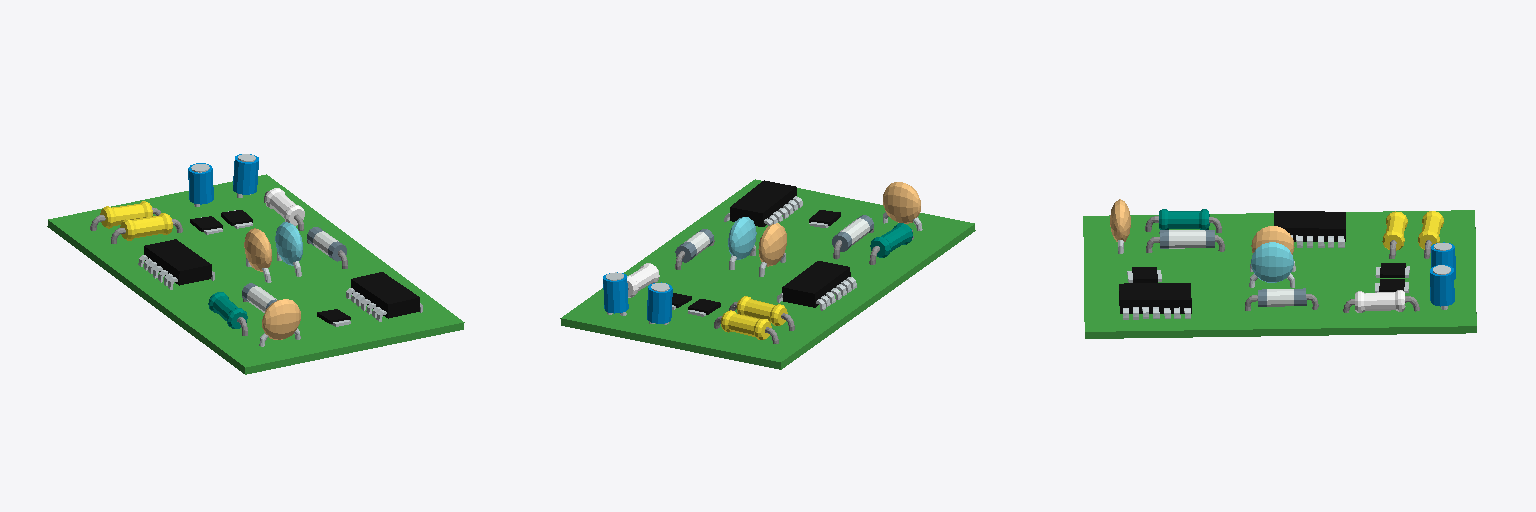
3 views of the same model, side by side, from view 1: azimuth 30°, elevation 25°; view 2: azimuth 150°, elevation 25°; view 3: azimuth 270°, elevation 25° (orthographic).
Parts seen in each view (by area): view 1: group[number redacted], group[number redacted], group[number redacted], group[number redacted], group[number redacted], group[number redacted], group[number redacted], group[number redacted], group[number redacted], group[number redacted], group[number redacted], group[number redacted] (+2 smaller); view 2: group[number redacted], group[number redacted], group[number redacted], group[number redacted], group[number redacted], group[number redacted], group[number redacted], group[number redacted], group[number redacted], group[number redacted], group[number redacted], group[number redacted] (+2 smaller); view 3: group[number redacted], group[number redacted], group[number redacted], group[number redacted], group[number redacted], group[number redacted], group[number redacted], group[number redacted], group[number redacted], group[number redacted], group[number redacted], group[number redacted] (+2 smaller).
Part boxes in pixels (left/top/right/bottom): group[number redacted]: left=47, top=174, right=464, bottom=374; group[number redacted]: left=346, top=272, right=422, bottom=321; group[number redacted]: left=138, top=239, right=214, bottom=289; group[number redacted]: left=259, top=299, right=300, bottom=346; group[number redacted]: left=111, top=213, right=182, bottom=243; group[number redacted]: left=275, top=222, right=302, bottom=276; group[number redacted]: left=244, top=228, right=271, bottom=282; group[number redacted]: left=90, top=201, right=160, bottom=230; group[number redacted]: left=188, top=163, right=213, bottom=206; group[number redacted]: left=233, top=154, right=258, bottom=197; group[number redacted]: left=264, top=188, right=304, bottom=230; group[number redacted]: left=208, top=292, right=247, bottom=335; group[number redacted]: left=560, top=179, right=975, bottom=369; group[number redacted]: left=777, top=261, right=856, bottom=310; group[number redacted]: left=724, top=180, right=802, bottom=226; group[number redacted]: left=883, top=182, right=922, bottom=230; group[number redacted]: left=714, top=310, right=778, bottom=343; group[number redacted]: left=728, top=217, right=756, bottom=269; group[number redacted]: left=758, top=223, right=786, bottom=276; group[number redacted]: left=729, top=296, right=794, bottom=330; group[number redacted]: left=647, top=282, right=672, bottom=324; group[number redacted]: left=603, top=272, right=628, bottom=315; group[number redacted]: left=869, top=223, right=913, bottom=264; group[number redacted]: left=832, top=215, right=873, bottom=259; group[number redacted]: left=1083, top=210, right=1476, bottom=338; group[number redacted]: left=1119, top=283, right=1191, bottom=319; group[number redacted]: left=1274, top=211, right=1345, bottom=247; group[number redacted]: left=1249, top=242, right=1294, bottom=287; group[number redacted]: left=1146, top=230, right=1224, bottom=252; group[number redacted]: left=1145, top=209, right=1221, bottom=232; group[number redacted]: left=1343, top=290, right=1419, bottom=312; group[number redacted]: left=1245, top=288, right=1318, bottom=310; group[number redacted]: left=1430, top=265, right=1454, bottom=309; group[number redacted]: left=1382, top=211, right=1407, bottom=258; group[number redacted]: left=1110, top=199, right=1130, bottom=253; group[number redacted]: left=1418, top=211, right=1443, bottom=258.
Bounding box in the file's own units: 0.9195 × 0.2308 × 1.41.